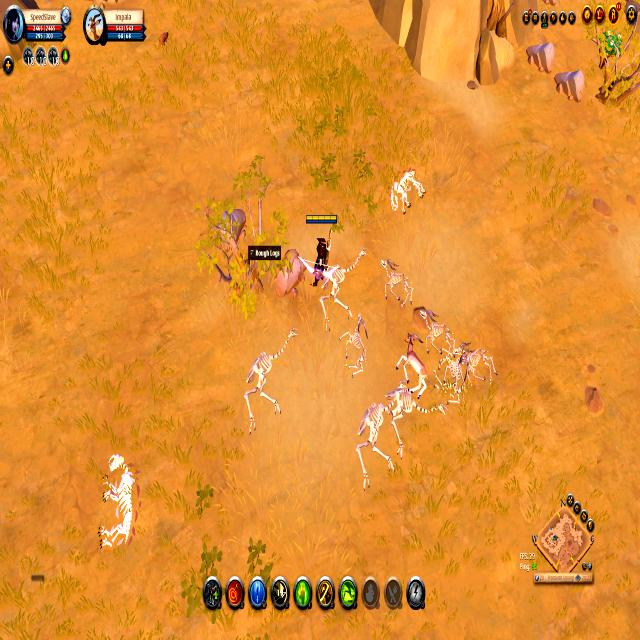hide: (602, 26, 623, 59)
mob: (394, 329, 428, 401)
red: (306, 210, 336, 278)
